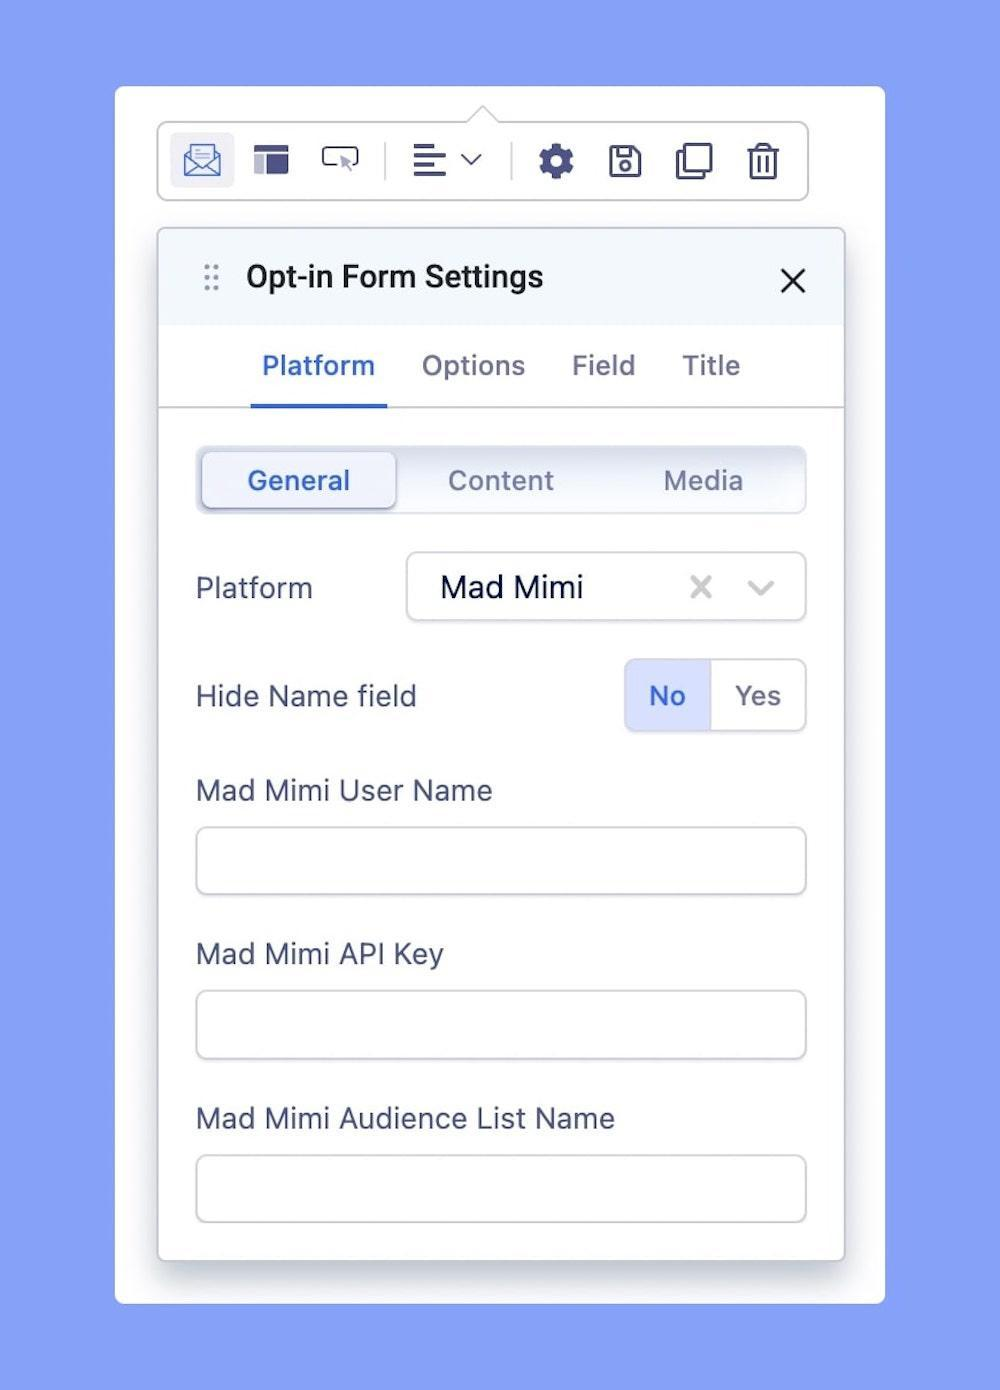button: (713, 660, 807, 731), (626, 660, 713, 731)
dropdown: (409, 551, 806, 621)
icon: (306, 133, 369, 186), (172, 136, 236, 186), (245, 137, 306, 185), (737, 137, 790, 189), (532, 140, 587, 190), (764, 260, 821, 308), (405, 135, 457, 186), (604, 137, 650, 186), (670, 137, 714, 185), (189, 255, 229, 304)
input: (200, 987, 806, 1062), (193, 825, 805, 898), (198, 1158, 806, 1222)
label: (197, 1098, 625, 1145), (183, 666, 433, 723), (244, 253, 554, 298), (190, 768, 491, 813), (193, 932, 450, 978), (186, 564, 325, 613)
radio: (608, 450, 802, 516), (405, 450, 597, 514), (200, 451, 394, 509)
